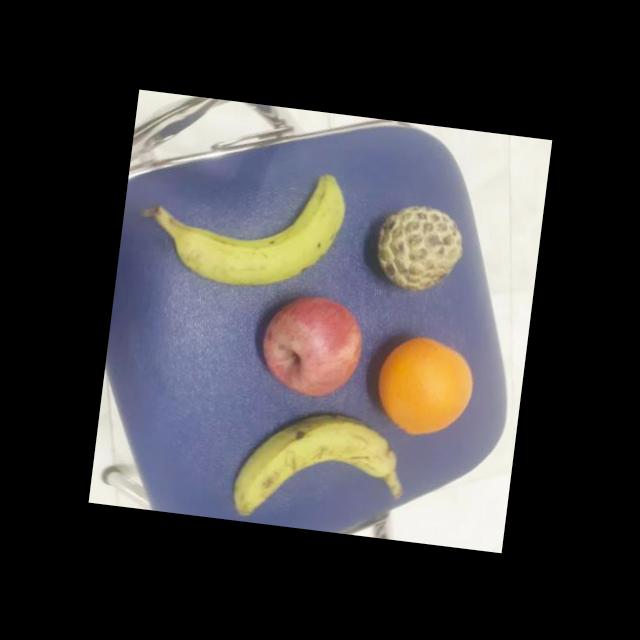Sakya fruit: (372, 198, 468, 297)
apple: (256, 285, 370, 403)
banana: (164, 150, 352, 298), (224, 402, 404, 536)
orange: (372, 329, 482, 441)
